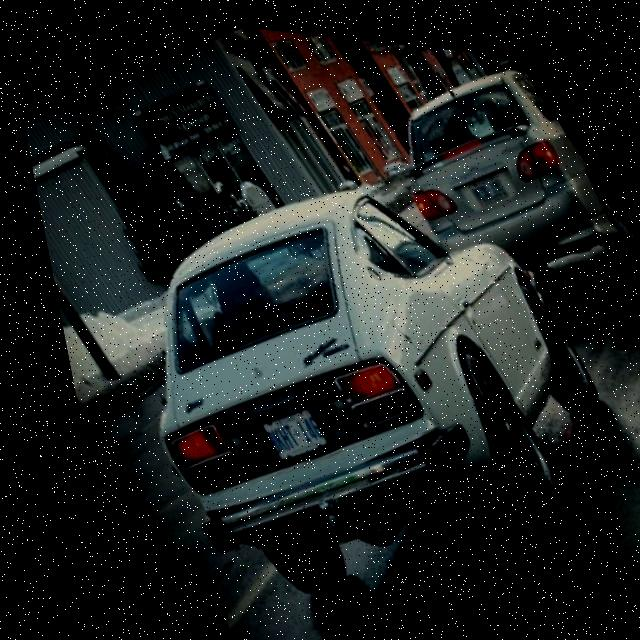license_plate: (230, 388, 327, 472), (458, 158, 507, 201)
